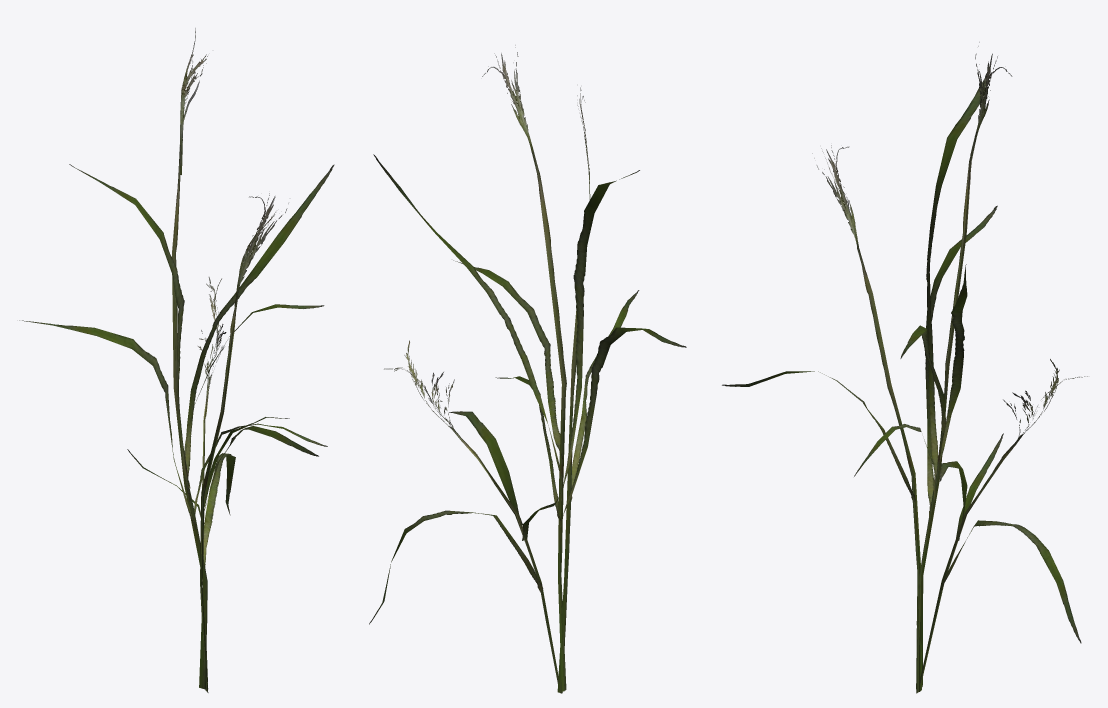
Rendered from grass-medium-01-tall-a.glb.
The picture shows the model from 3 angles, left to right: view 1: azimuth 30°, elevation 25°; view 2: azimuth 150°, elevation 25°; view 3: azimuth 270°, elevation 25°; orthographic projection. The views are drawn at different scales.
Visible parts, largest first — view 1: grass_medium_01_tall_a; view 2: grass_medium_01_tall_a; view 3: grass_medium_01_tall_a.
Boxes of the visible parts, left/top/right/bottom form: grass_medium_01_tall_a: left=19, top=28, right=334, bottom=692; grass_medium_01_tall_a: left=369, top=45, right=686, bottom=693; grass_medium_01_tall_a: left=722, top=42, right=1087, bottom=693.
Size of the model in its own units: 0.1609 by 0.3225 by 0.1585.
1 material, 1 textured.
